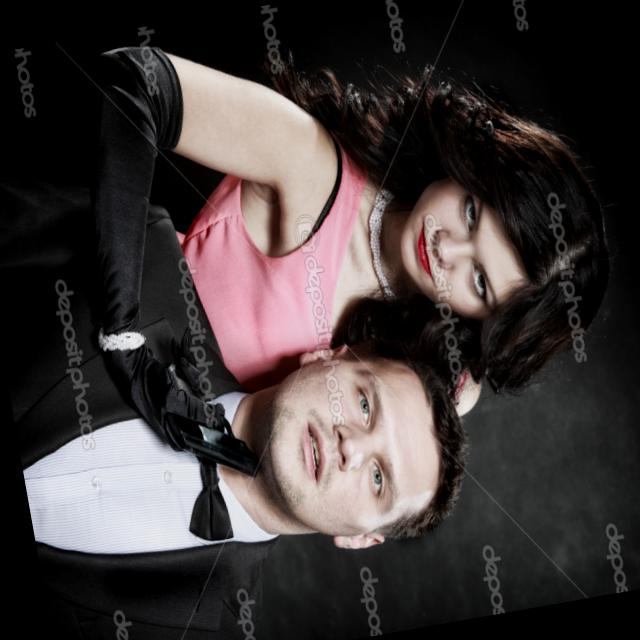handgun: (130, 329, 267, 502)
